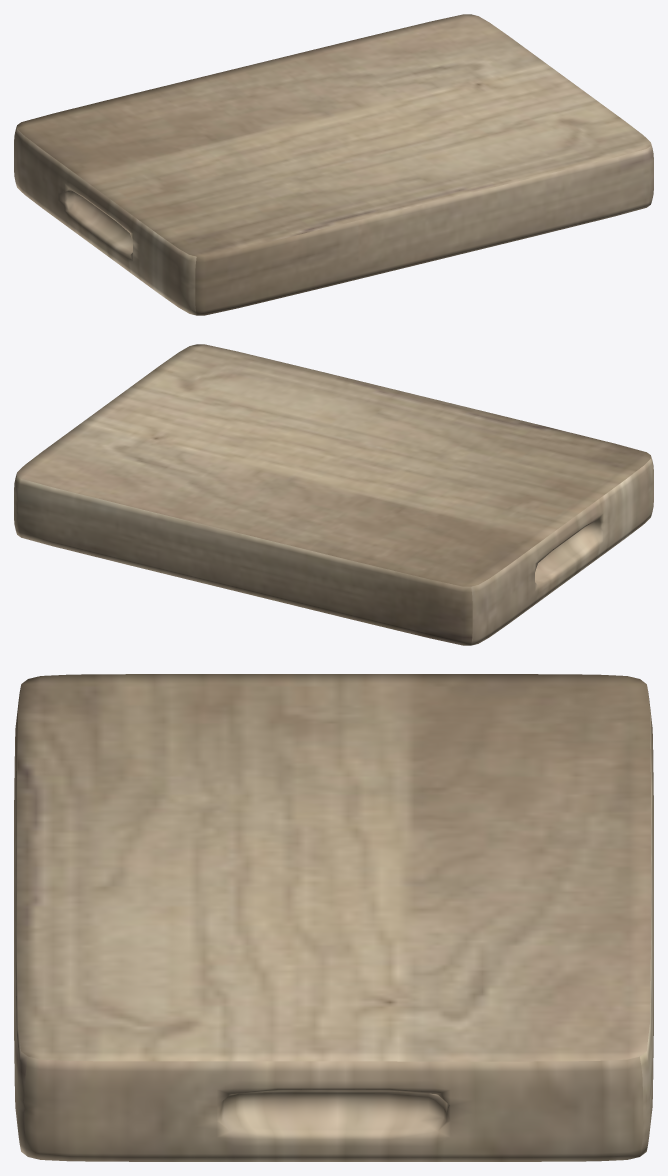
Rendered from tabla_cortar.glb.
3 renders of one model, top to bottom at view 1: azimuth 30°, elevation 25°; view 2: azimuth 150°, elevation 25°; view 3: azimuth 270°, elevation 25°, orthographic. The views are drawn at different scales.
Parts seen in each view (by area): view 1: tabla_cortar; view 2: tabla_cortar; view 3: tabla_cortar.
Part boxes in pixels (x1,y1,x2,y2): tabla_cortar: (14, 14, 653, 315); tabla_cortar: (14, 344, 653, 645); tabla_cortar: (14, 674, 653, 1161).
Size of the model in its own units: 37.6 by 4.5 by 26.
1 material, 1 textured.
